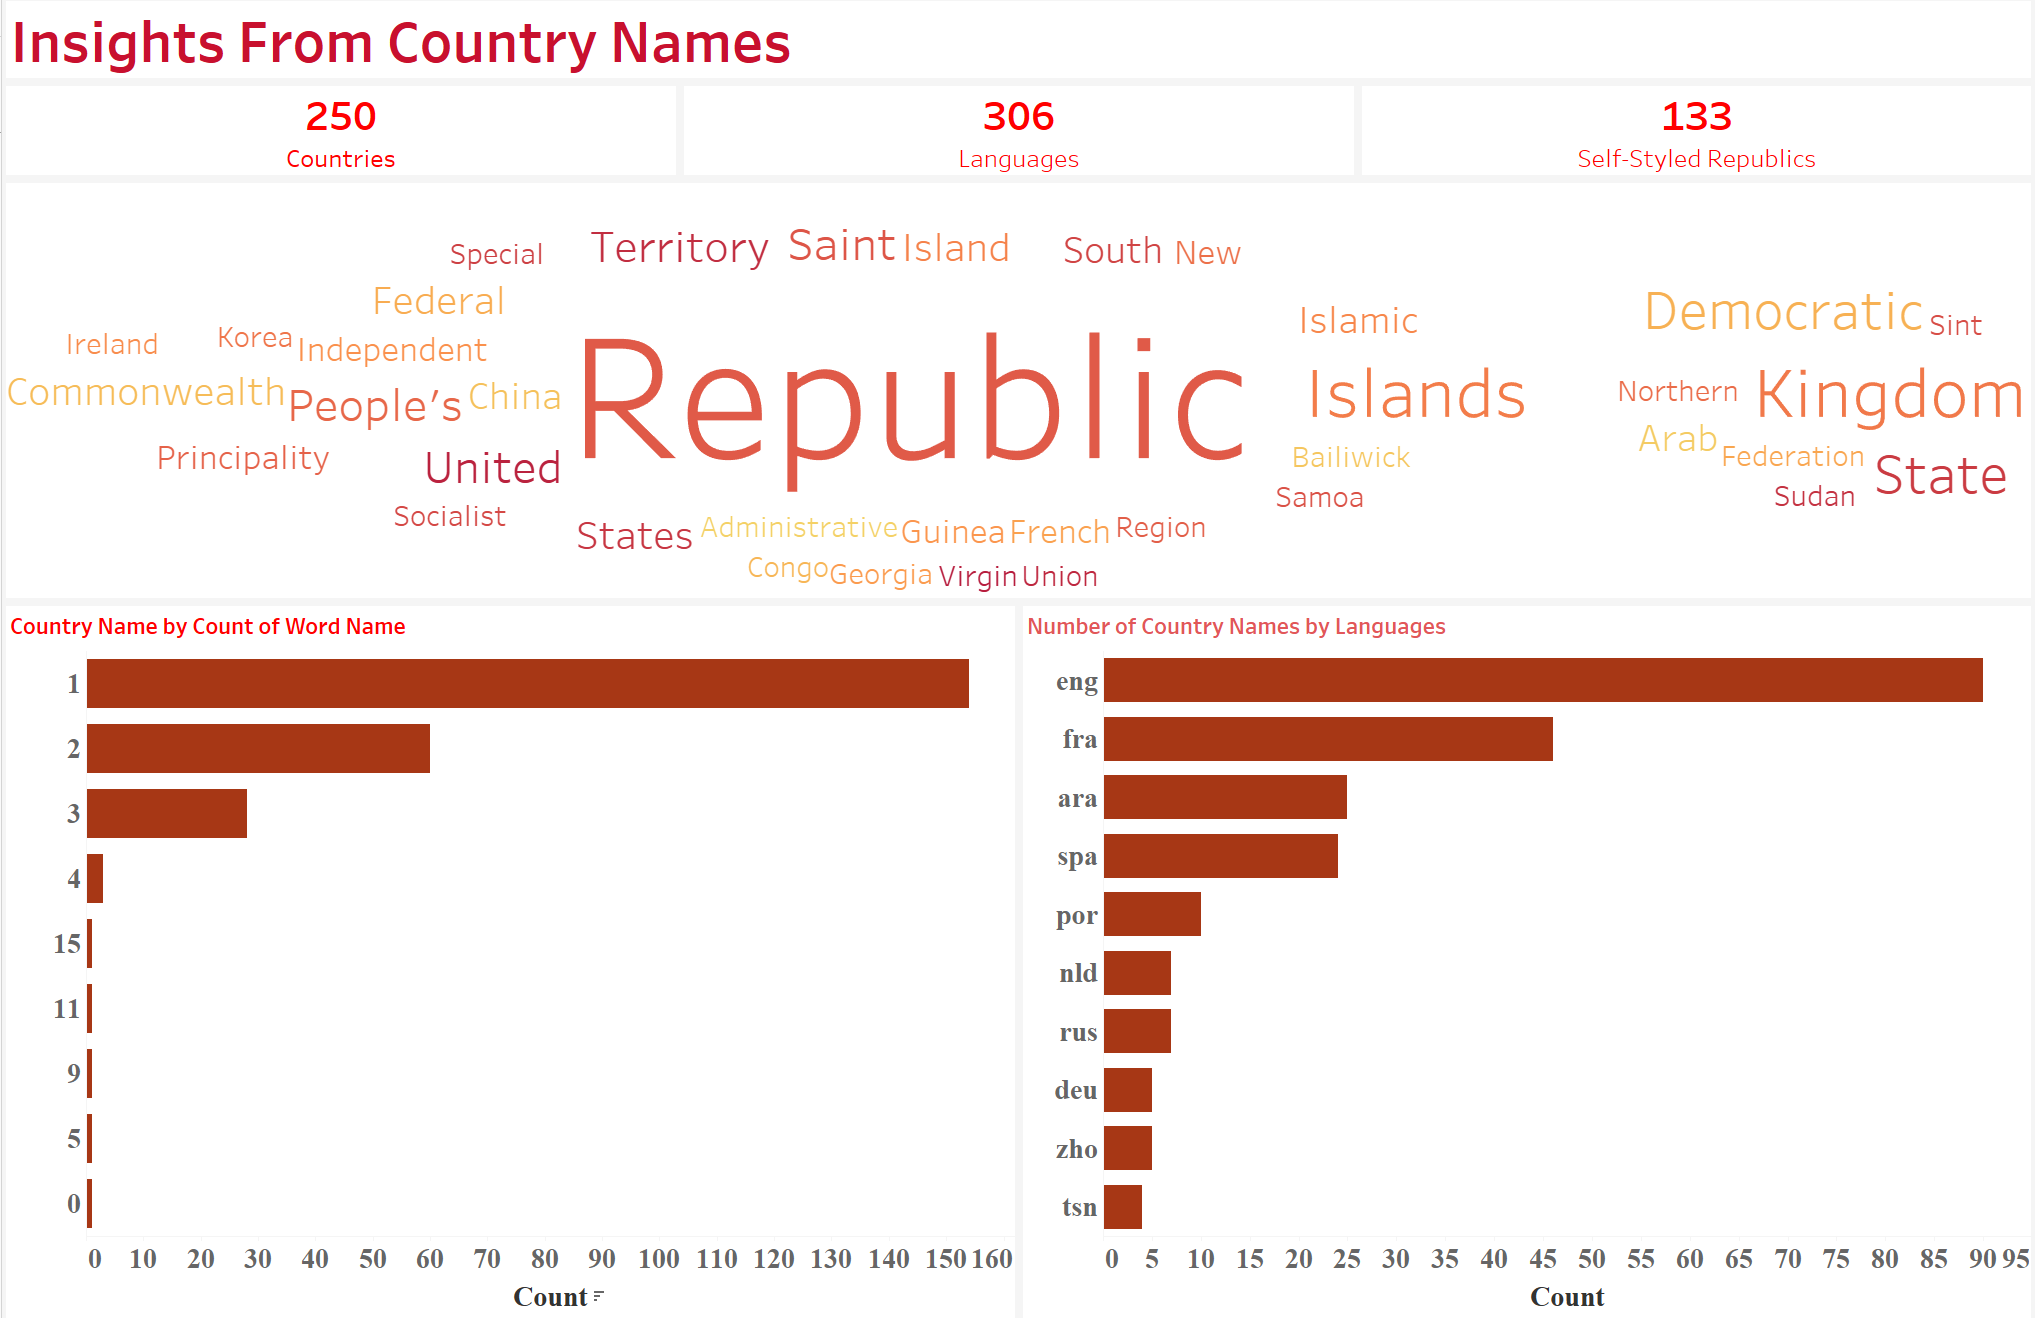

Layout of this report page (visuals, bound fields, positions):
{"tool":"tableau","page":{"name":"Dashboard 1","canvas":[1200,1000],"ordinal":0},"visuals":[{"type":"text","box":[0,0,1200,84]},{"type":"text","box":[0,84,400,97]},{"type":"text","box":[400,84,400,97]},{"type":"text","box":[800,84,400,97]},{"type":"worksheet","title":"Sheet 1","mark":"Text","box":[0,181,600,333]},{"type":"blank","box":[600,181,600,222]},{"type":"worksheet","title":"Sheet 2","mark":"Automatic","rows":["count"],"cols":["_id"],"box":[0,514,600,370]},{"type":"worksheet","title":"Sheet 3","mark":"Automatic","rows":["count"],"cols":["language"],"box":[600,571,600,429]},{"type":"blank","box":[0,884,600,116]}]}

Visuals, with their boxes on the page's 1200x1000 design canvas (x1, y1, x2, y2). These are canvas units, not pixel positions in the 2035x1318 screenshot, which may show the page scaled, cropped or inside an application window:
text: 0 0 1200 84
text: 0 84 400 181
text: 400 84 800 181
text: 800 84 1200 181
"Sheet 1" worksheet (Text marks): 0 181 600 514
blank: 600 181 1200 403
"Sheet 2" worksheet: 0 514 600 884
"Sheet 3" worksheet: 600 571 1200 1000
blank: 0 884 600 1000
